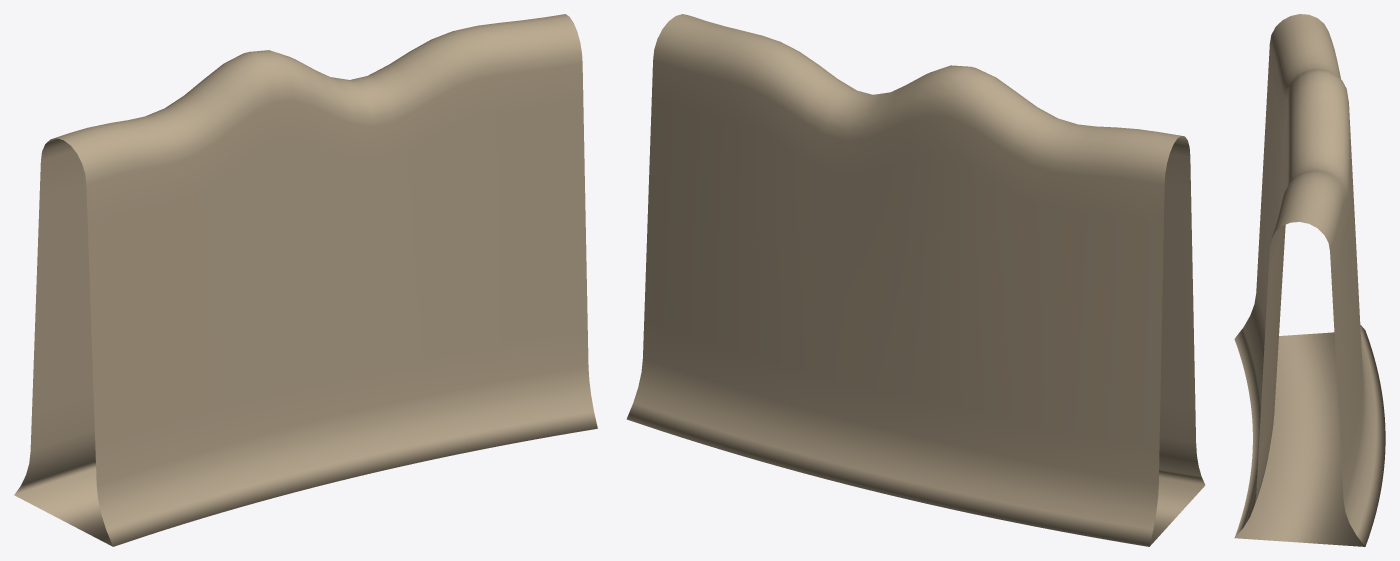
The model's file is KFB_Wall_curved_ring_r4.r3.glb.
The picture shows the model from 3 angles, left to right: view 1: azimuth 30°, elevation 25°; view 2: azimuth 150°, elevation 25°; view 3: azimuth 270°, elevation 25°; orthographic projection. The views are drawn at different scales.
Visible parts, largest first — view 1: KFB_Wall_curved_ring_r4; view 2: KFB_Wall_curved_ring_r4; view 3: KFB_Wall_curved_ring_r4.
Boxes of the visible parts, x1=… form: KFB_Wall_curved_ring_r4: x1=14, y1=14, x2=597, y2=546; KFB_Wall_curved_ring_r4: x1=626, y1=14, x2=1205, y2=546; KFB_Wall_curved_ring_r4: x1=1234, y1=14, x2=1385, y2=546.
Size of the model in its own units: 5.22 by 3.87 by 1.54.
